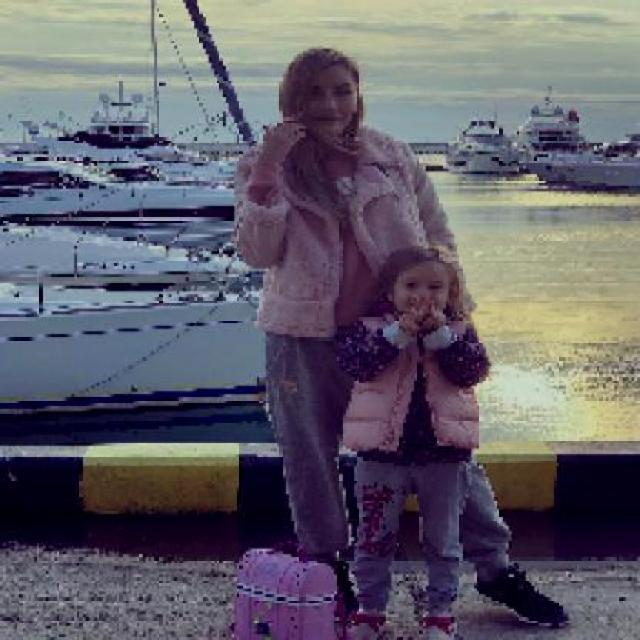child: (332, 245, 494, 638)
